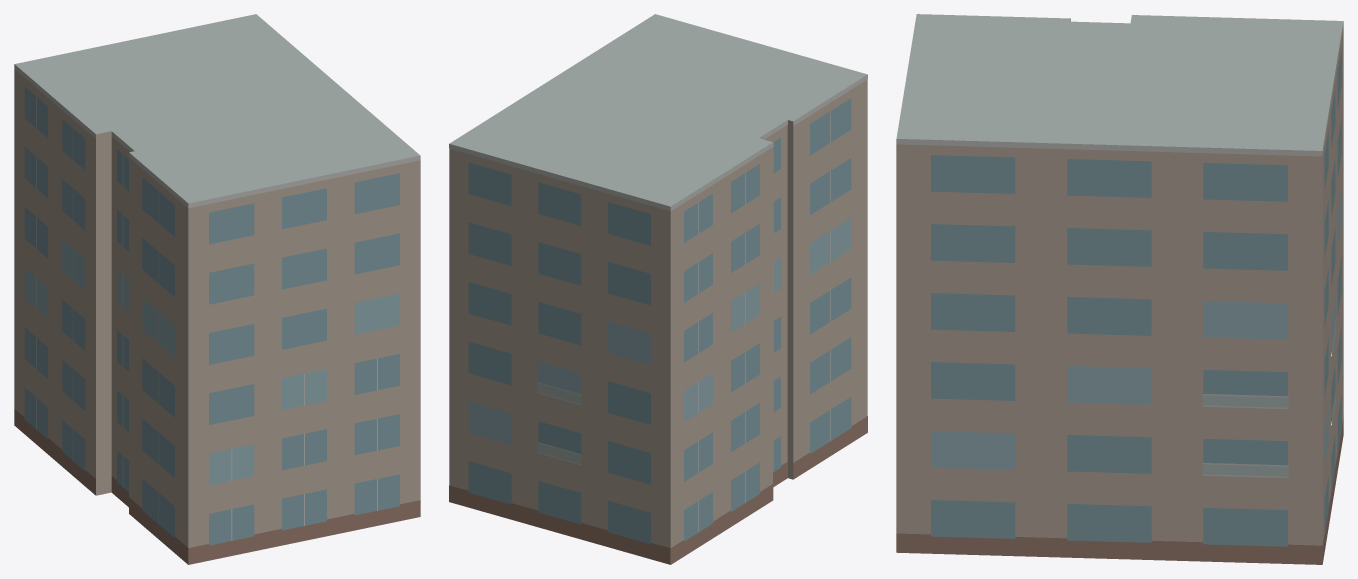
File: survey-upis-32657654.glb
3 renders of one model, left to right at view 1: azimuth 30°, elevation 25°; view 2: azimuth 150°, elevation 25°; view 3: azimuth 270°, elevation 25°, orthographic. The views are drawn at different scales.
Parts seen in each view (by area): view 1: survey-upis-32657654.tmp; view 2: survey-upis-32657654.tmp; view 3: survey-upis-32657654.tmp.
Part boxes in pixels (x1=…): survey-upis-32657654.tmp: x1=14, y1=14, x2=420, y2=564; survey-upis-32657654.tmp: x1=449, y1=14, x2=867, y2=564; survey-upis-32657654.tmp: x1=896, y1=14, x2=1343, y2=564.
Bounding box in the file's own units: 13.07 × 18.4 × 18.02.
